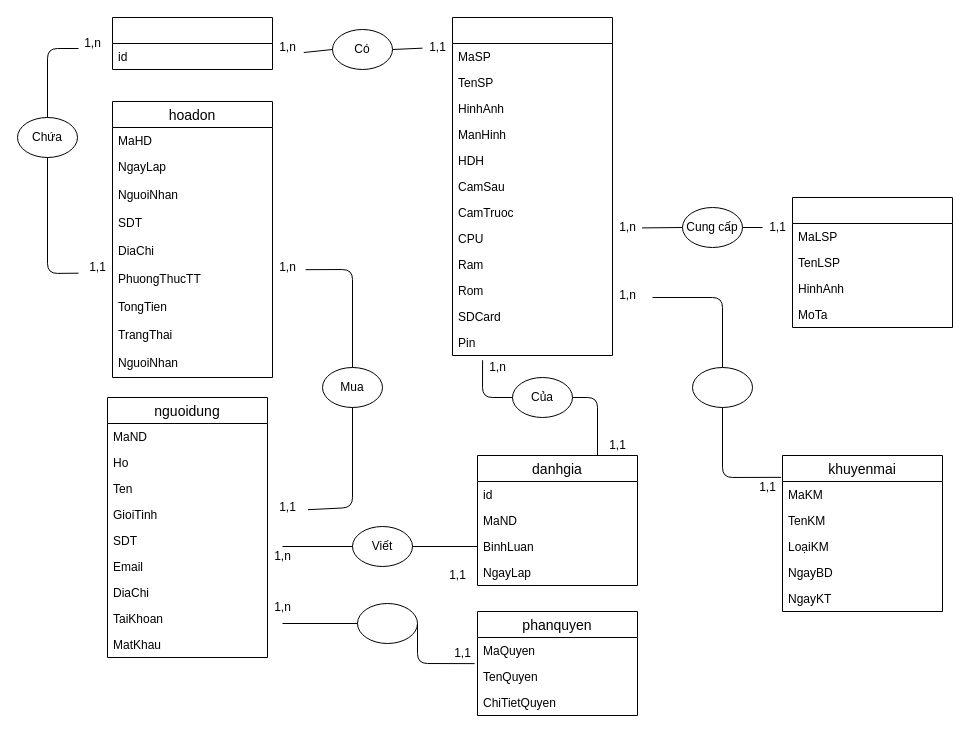
Image size: 970x736. Some labels were removed from this diagram. The box of each missing label's shape, as (x1, y1, x2, y2) in pixels:
chitiethoadon: (112, 16, 272, 70)
Cho: (692, 366, 752, 408)
Cấp: (356, 602, 418, 644)
loaisanpham: (792, 196, 952, 328)
sanpham: (452, 16, 612, 356)
